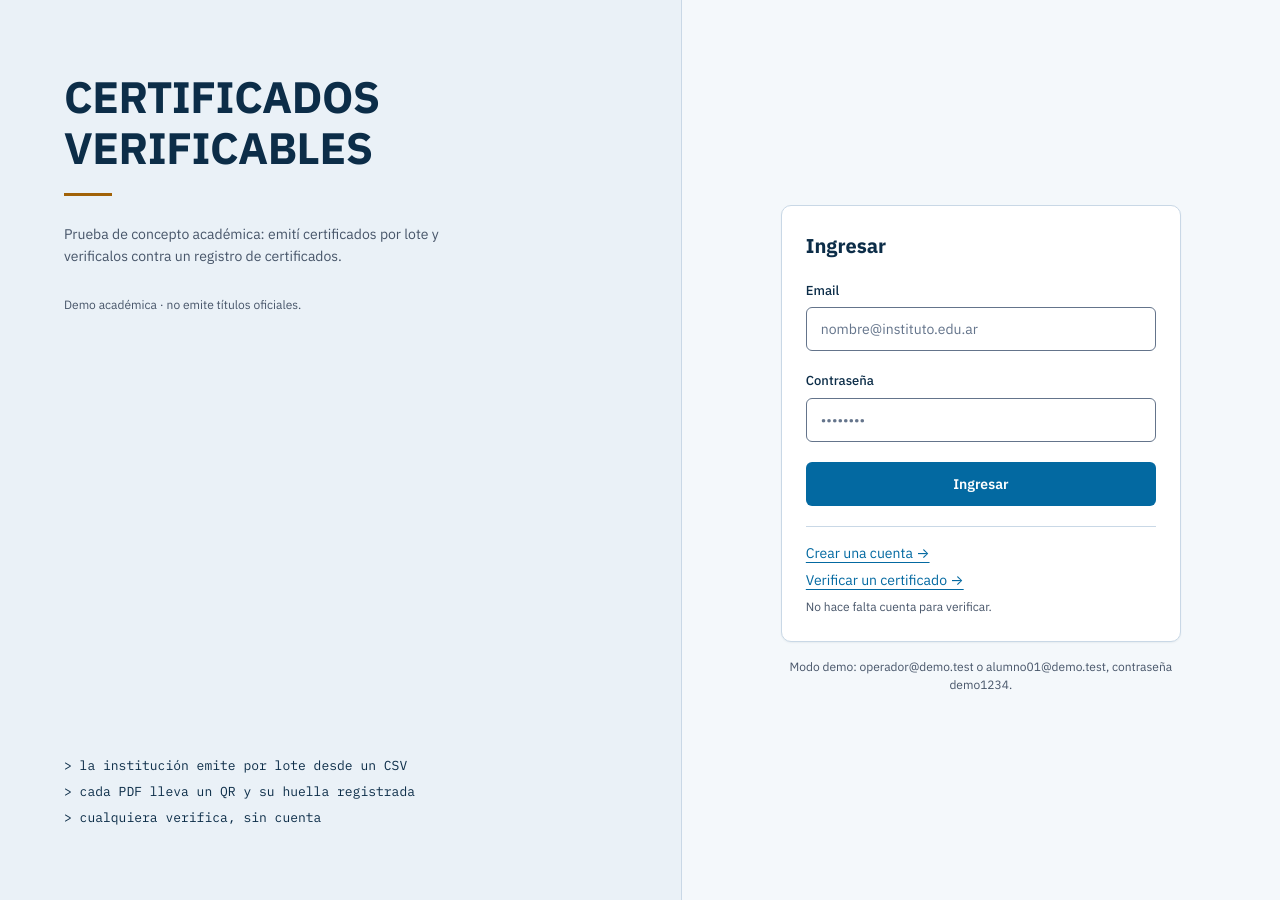
Test: login › alumno entra a /student/certificates
In the field labelled "Email": (981, 329) [806, 307, 1156, 351], type "alumno01@demo.test"
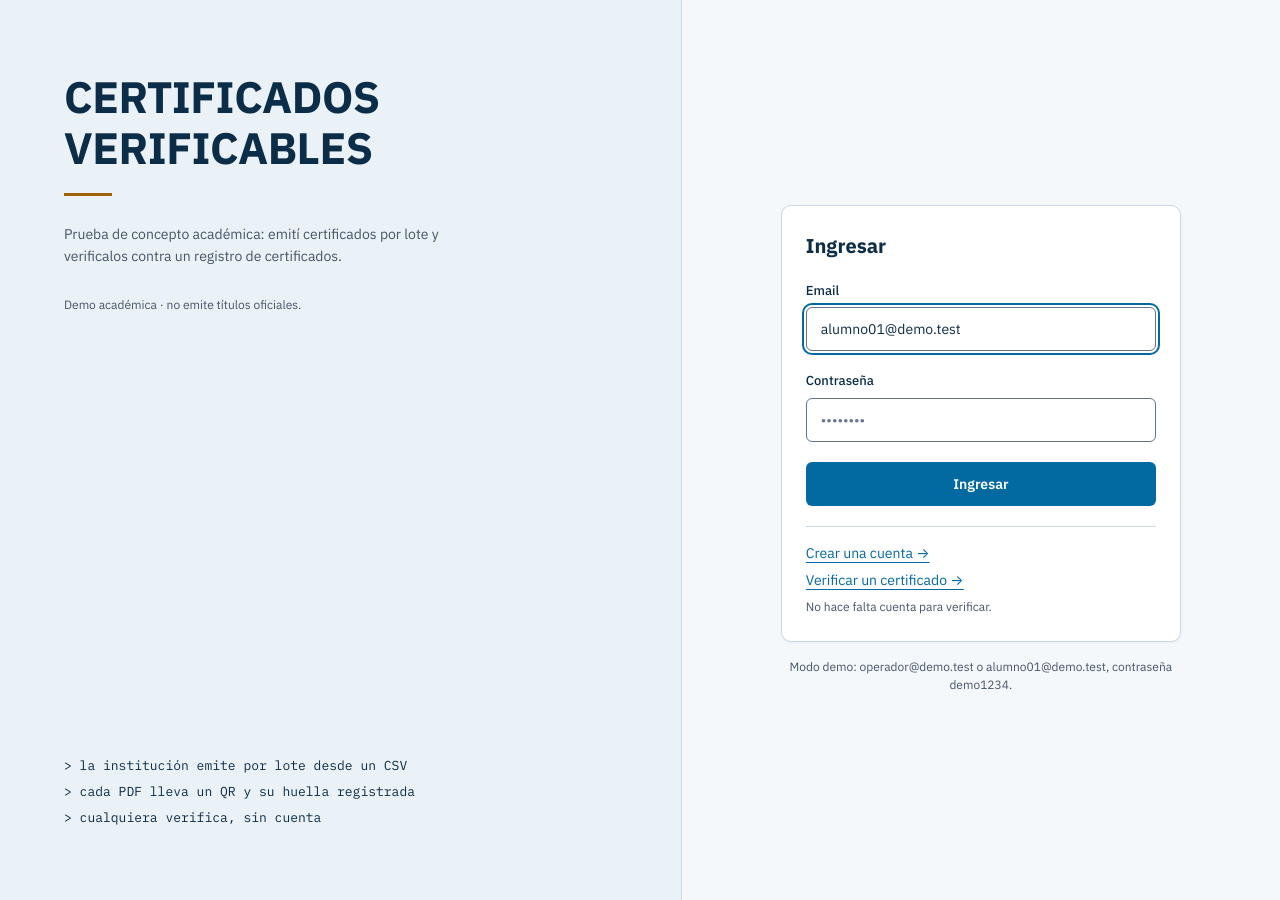
In the password field labelled "Contraseña": (981, 420) [806, 398, 1156, 442], type "demo1234"
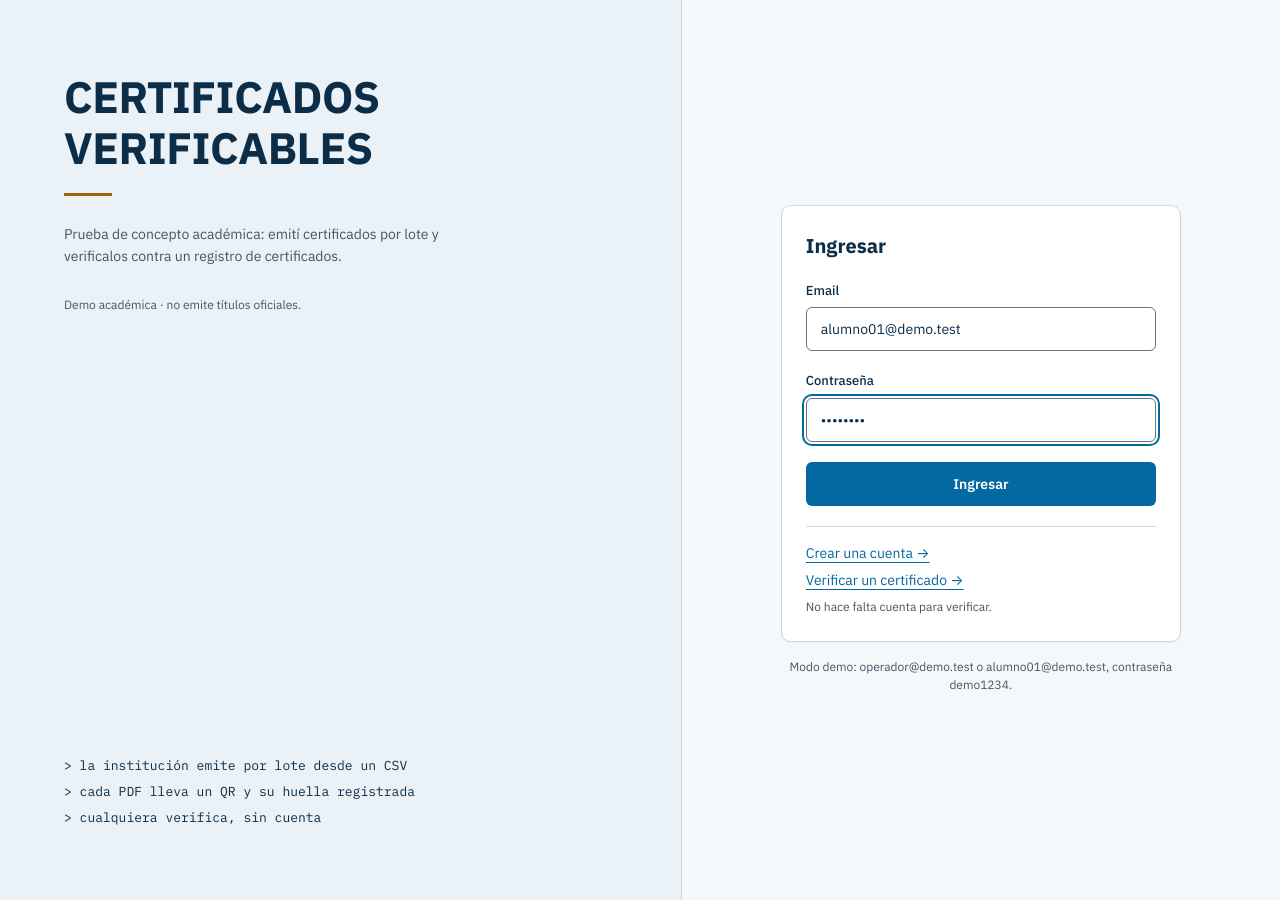
Click the button "Ingresar": (981, 484) [806, 462, 1156, 506]
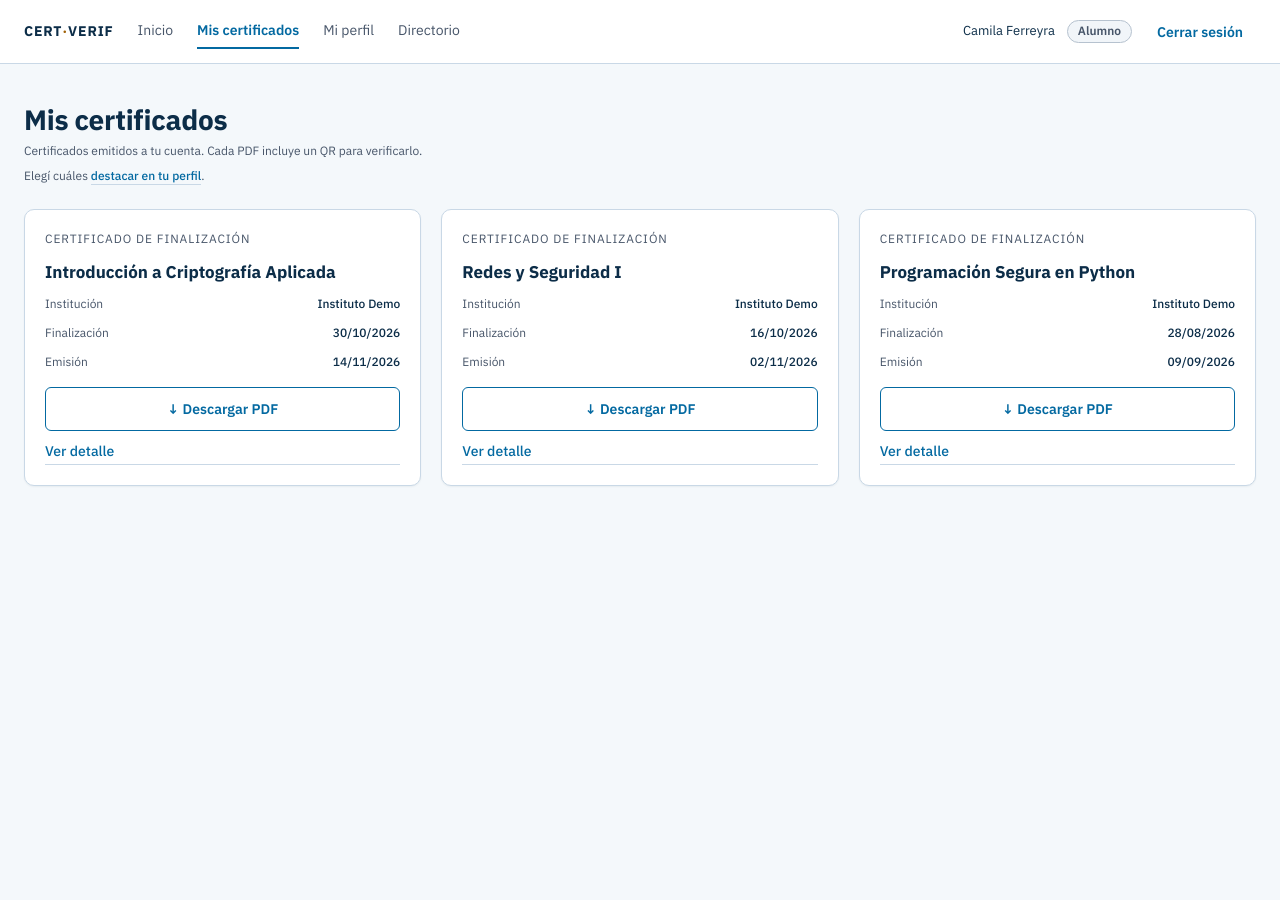
Result: the heading "Mis certificados" is shown at [24, 101, 227, 138]
